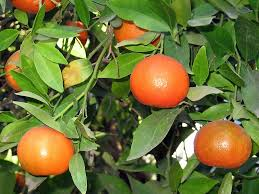orange: (193, 120, 254, 172), (130, 56, 189, 108), (19, 124, 75, 177)
